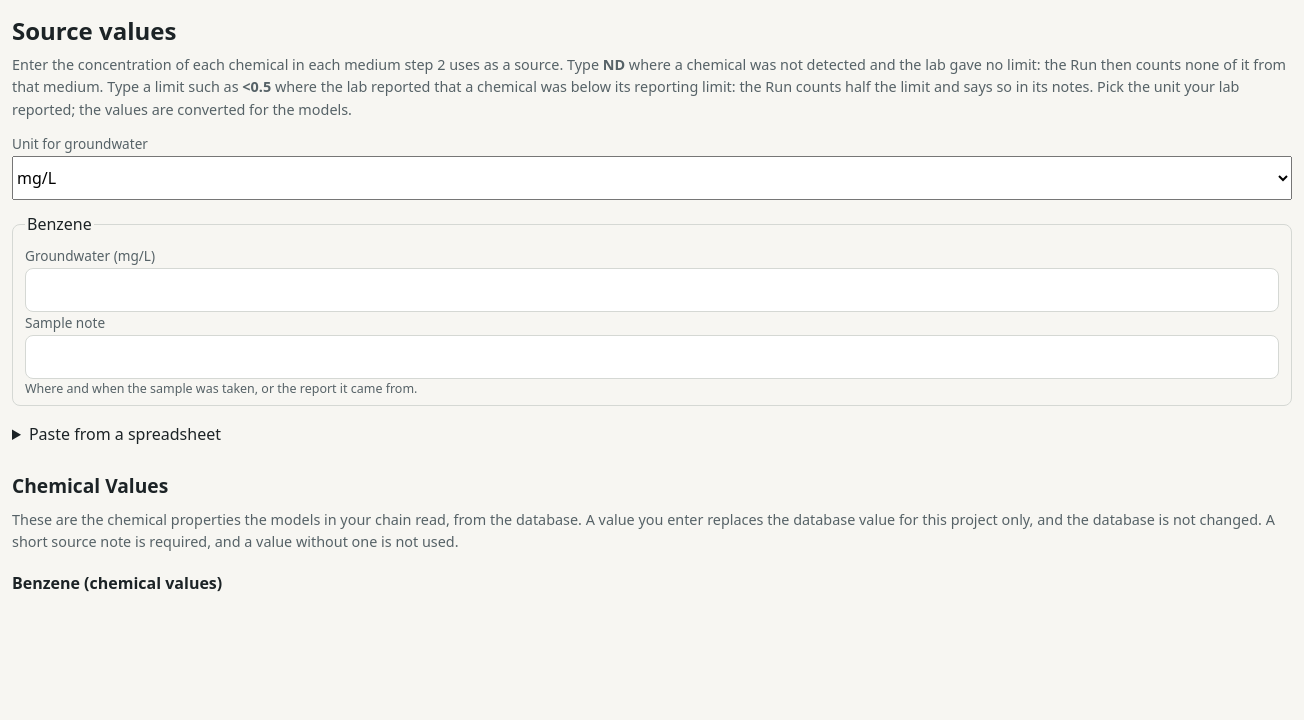
it: SourcesStep, 3b › keeps a value below a reporting limit as typed and takes it as entered
This screenshot has width=1304, height=720.
In the field labelled "Groundwater (mg/L)": (652, 290) [25, 268, 1279, 312], type "<0.5"
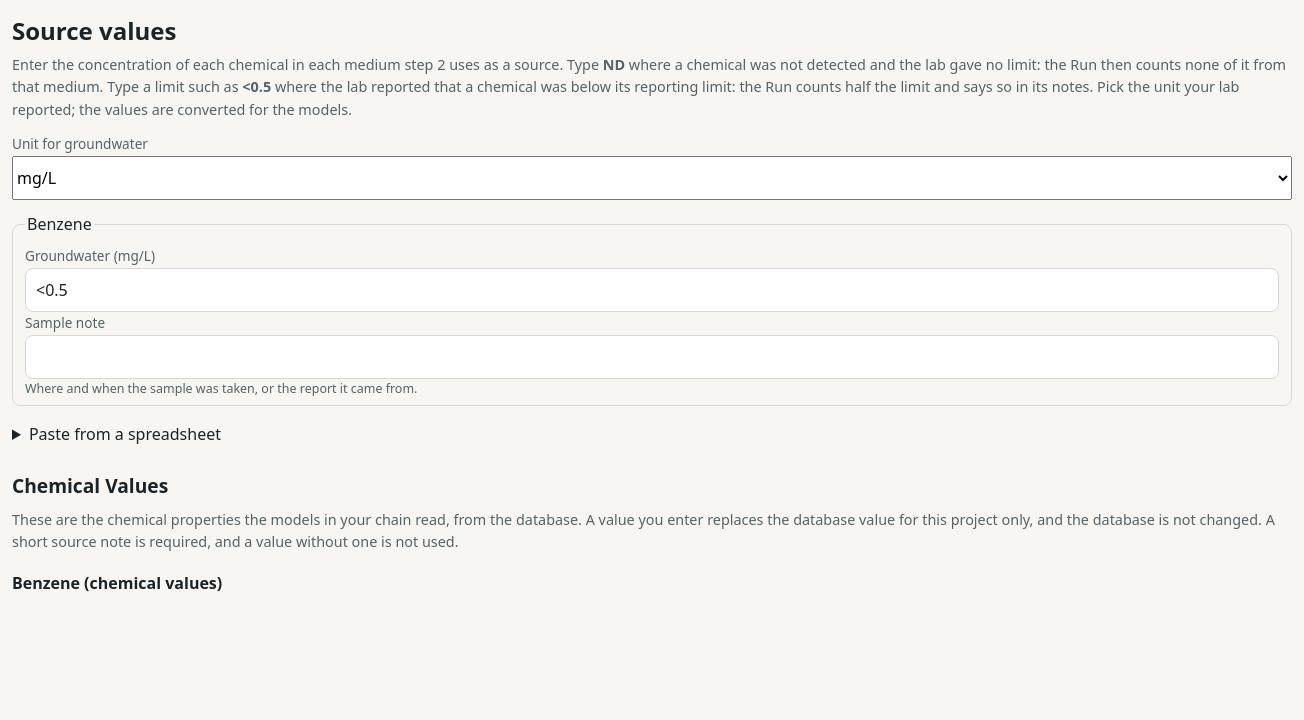
Expected: the text "number above zero" is not shown
Replace the text in the field labelled "Groundwater (mg/L)" with "<": (652, 290) [25, 268, 1279, 312]
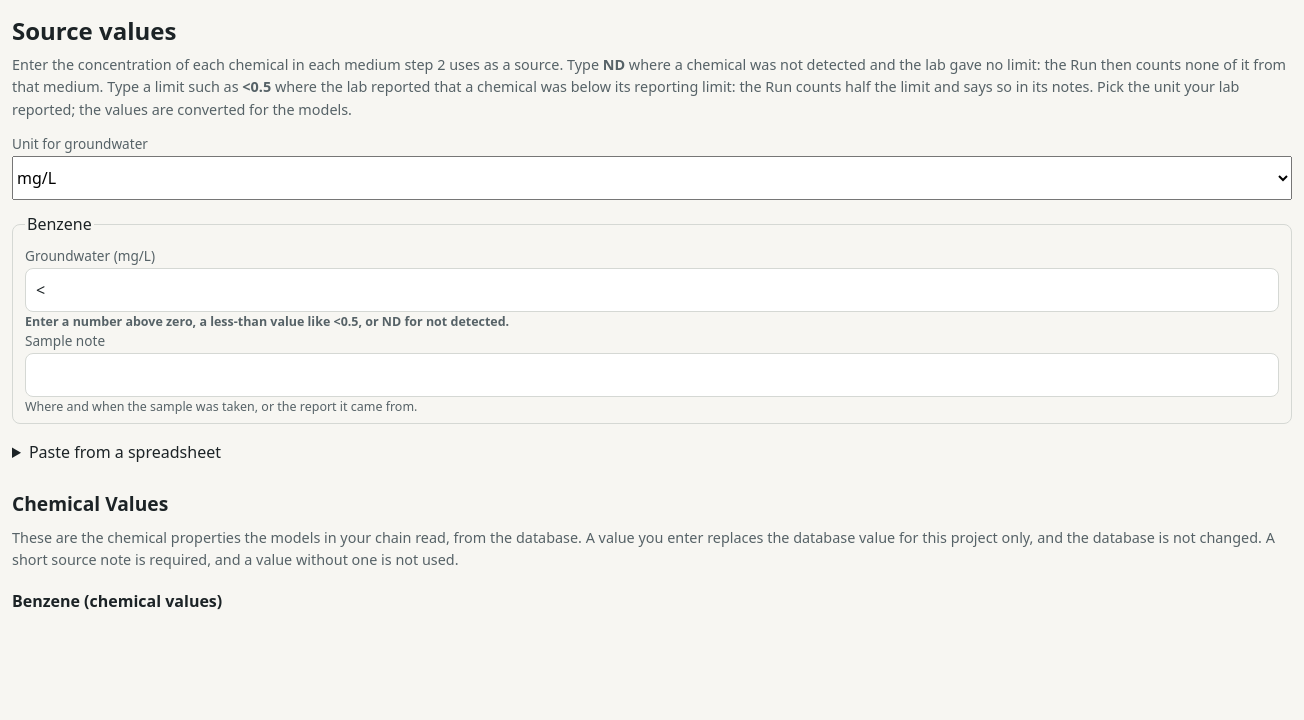
Expected: the text "less-than value like <0.5" is shown, [25, 313, 509, 330]
